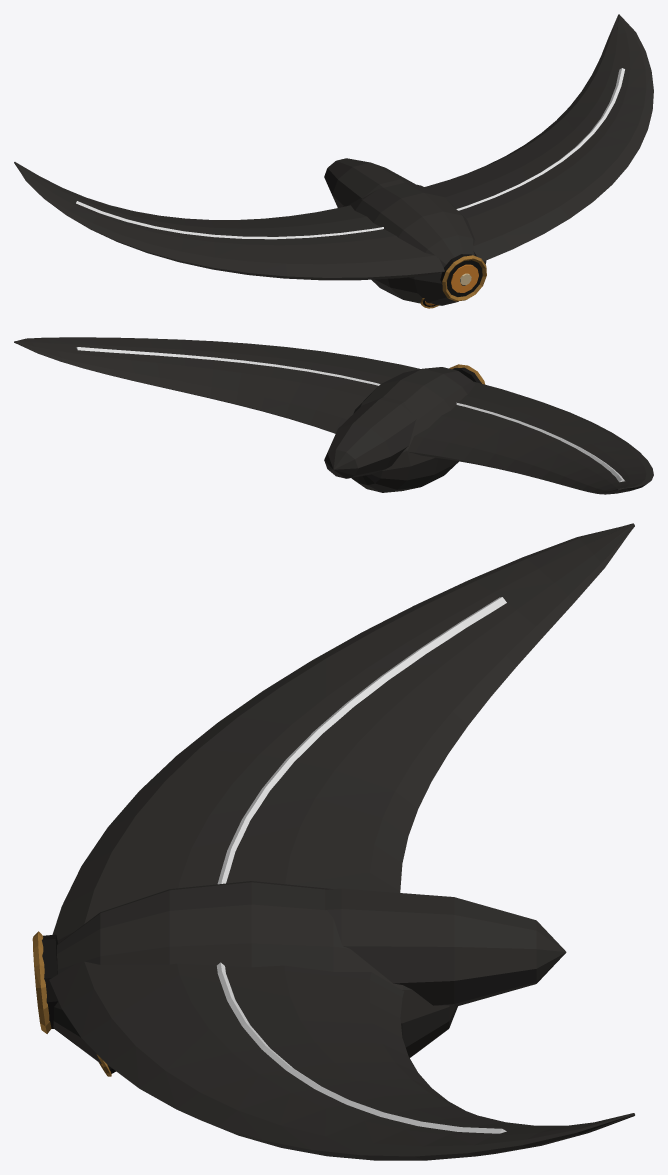
The model's file is spotter.glb.
3 views of the same model, one above another, from view 1: azimuth 30°, elevation 25°; view 2: azimuth 150°, elevation 25°; view 3: azimuth 270°, elevation 25° (orthographic). The views are drawn at different scales.
Visible parts, largest first — view 1: body; view 2: body; view 3: body.
Part boxes in pixels (left/top/right/bottom): body: left=14, top=14, right=653, bottom=308; body: left=14, top=337, right=653, bottom=494; body: left=32, top=523, right=634, bottom=1160.
Size of the model in its own units: 12.52 by 2.59 by 5.35.
